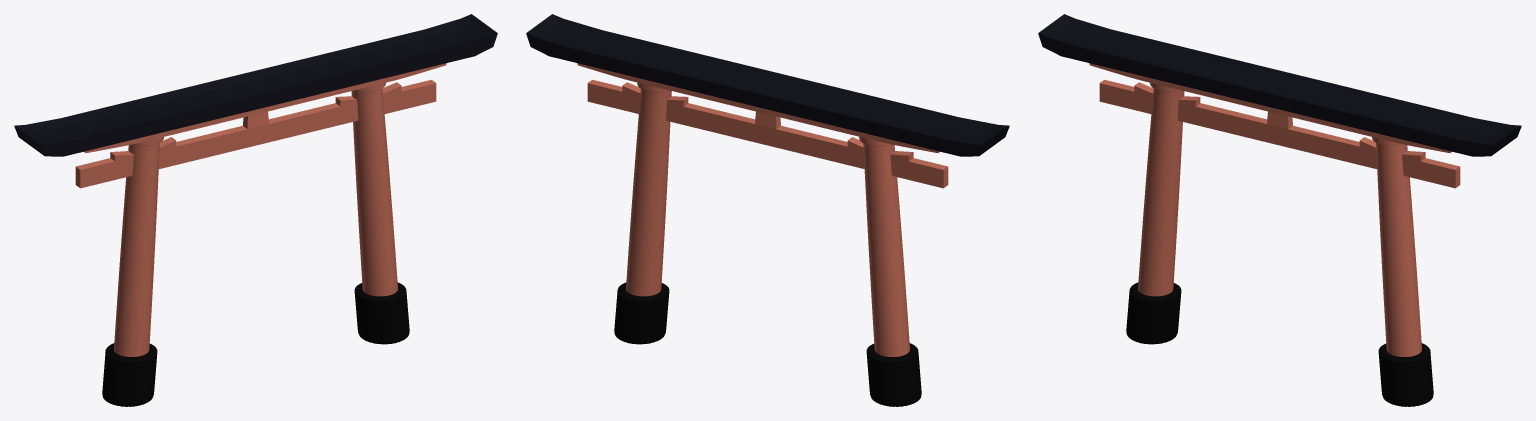
File: SrineGate.fbx
3 renders of one model, left to right at view 1: azimuth 30°, elevation 25°; view 2: azimuth 150°, elevation 25°; view 3: azimuth 330°, elevation 25°, orthographic.
Visible parts, largest first — view 1: Poles, BarRoof, Lower Bar, ApperBar; view 2: Poles, BarRoof, Lower Bar, ApperBar; view 3: Poles, BarRoof, Lower Bar, ApperBar.
Part boxes in pixels (x1,y1,x2,y2): Poles: (102, 83, 409, 406); BarRoof: (14, 14, 497, 156); Lower Bar: (75, 79, 436, 188); ApperBar: (74, 63, 446, 152); Poles: (614, 82, 921, 406); BarRoof: (526, 14, 1009, 156); Lower Bar: (587, 79, 948, 188); ApperBar: (577, 63, 939, 152); Poles: (1126, 83, 1433, 406); BarRoof: (1038, 14, 1521, 156); Lower Bar: (1099, 79, 1460, 188); ApperBar: (1089, 63, 1461, 152).
Size of the model in its own units: 417 by 250 by 41.46.
